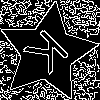K: (22, 27, 78, 83)
